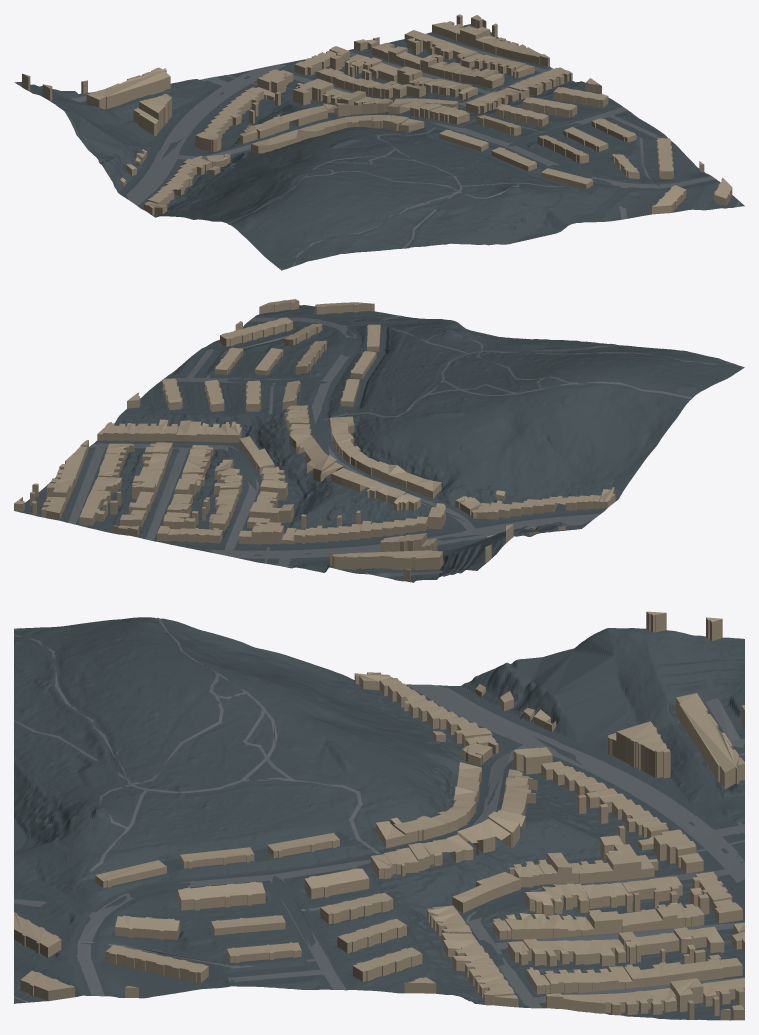
Rendered from epsg26910-1434-10869.lod0.glb.
The picture shows the model from 3 angles, top to bottom: view 1: azimuth 30°, elevation 25°; view 2: azimuth 150°, elevation 25°; view 3: azimuth 270°, elevation 25°; orthographic projection. The views are drawn at different scales.
Visible parts, largest first — view 1: epsg26910-1434-10869-lod0; view 2: epsg26910-1434-10869-lod0; view 3: epsg26910-1434-10869-lod0.
Part boxes in pixels (x1,y1,x2,y2): epsg26910-1434-10869-lod0: [14, 14, 744, 270]; epsg26910-1434-10869-lod0: [14, 299, 744, 582]; epsg26910-1434-10869-lod0: [14, 611, 744, 1020].
Bounding box in the file's own units: 384 × 61.21 × 384.
